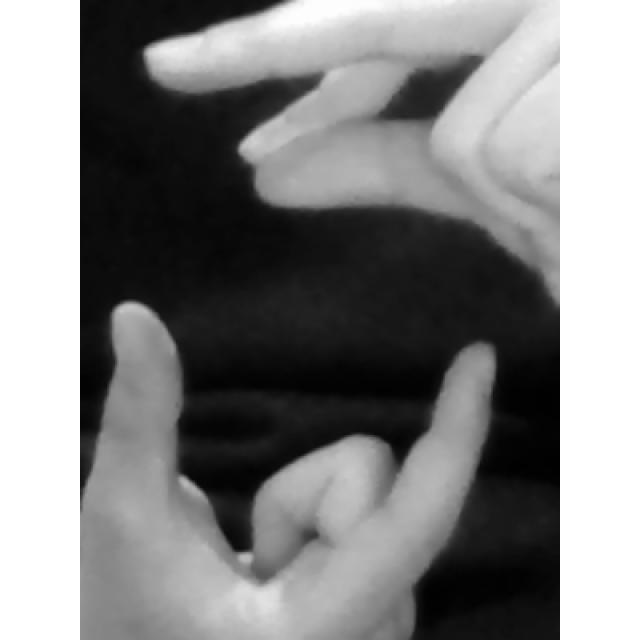U--: (79, 0, 559, 640)
